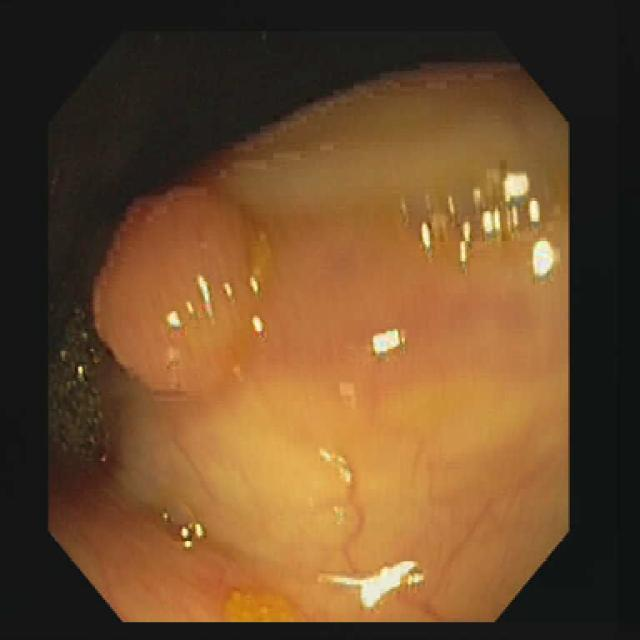tumor: (95, 187, 252, 387)
